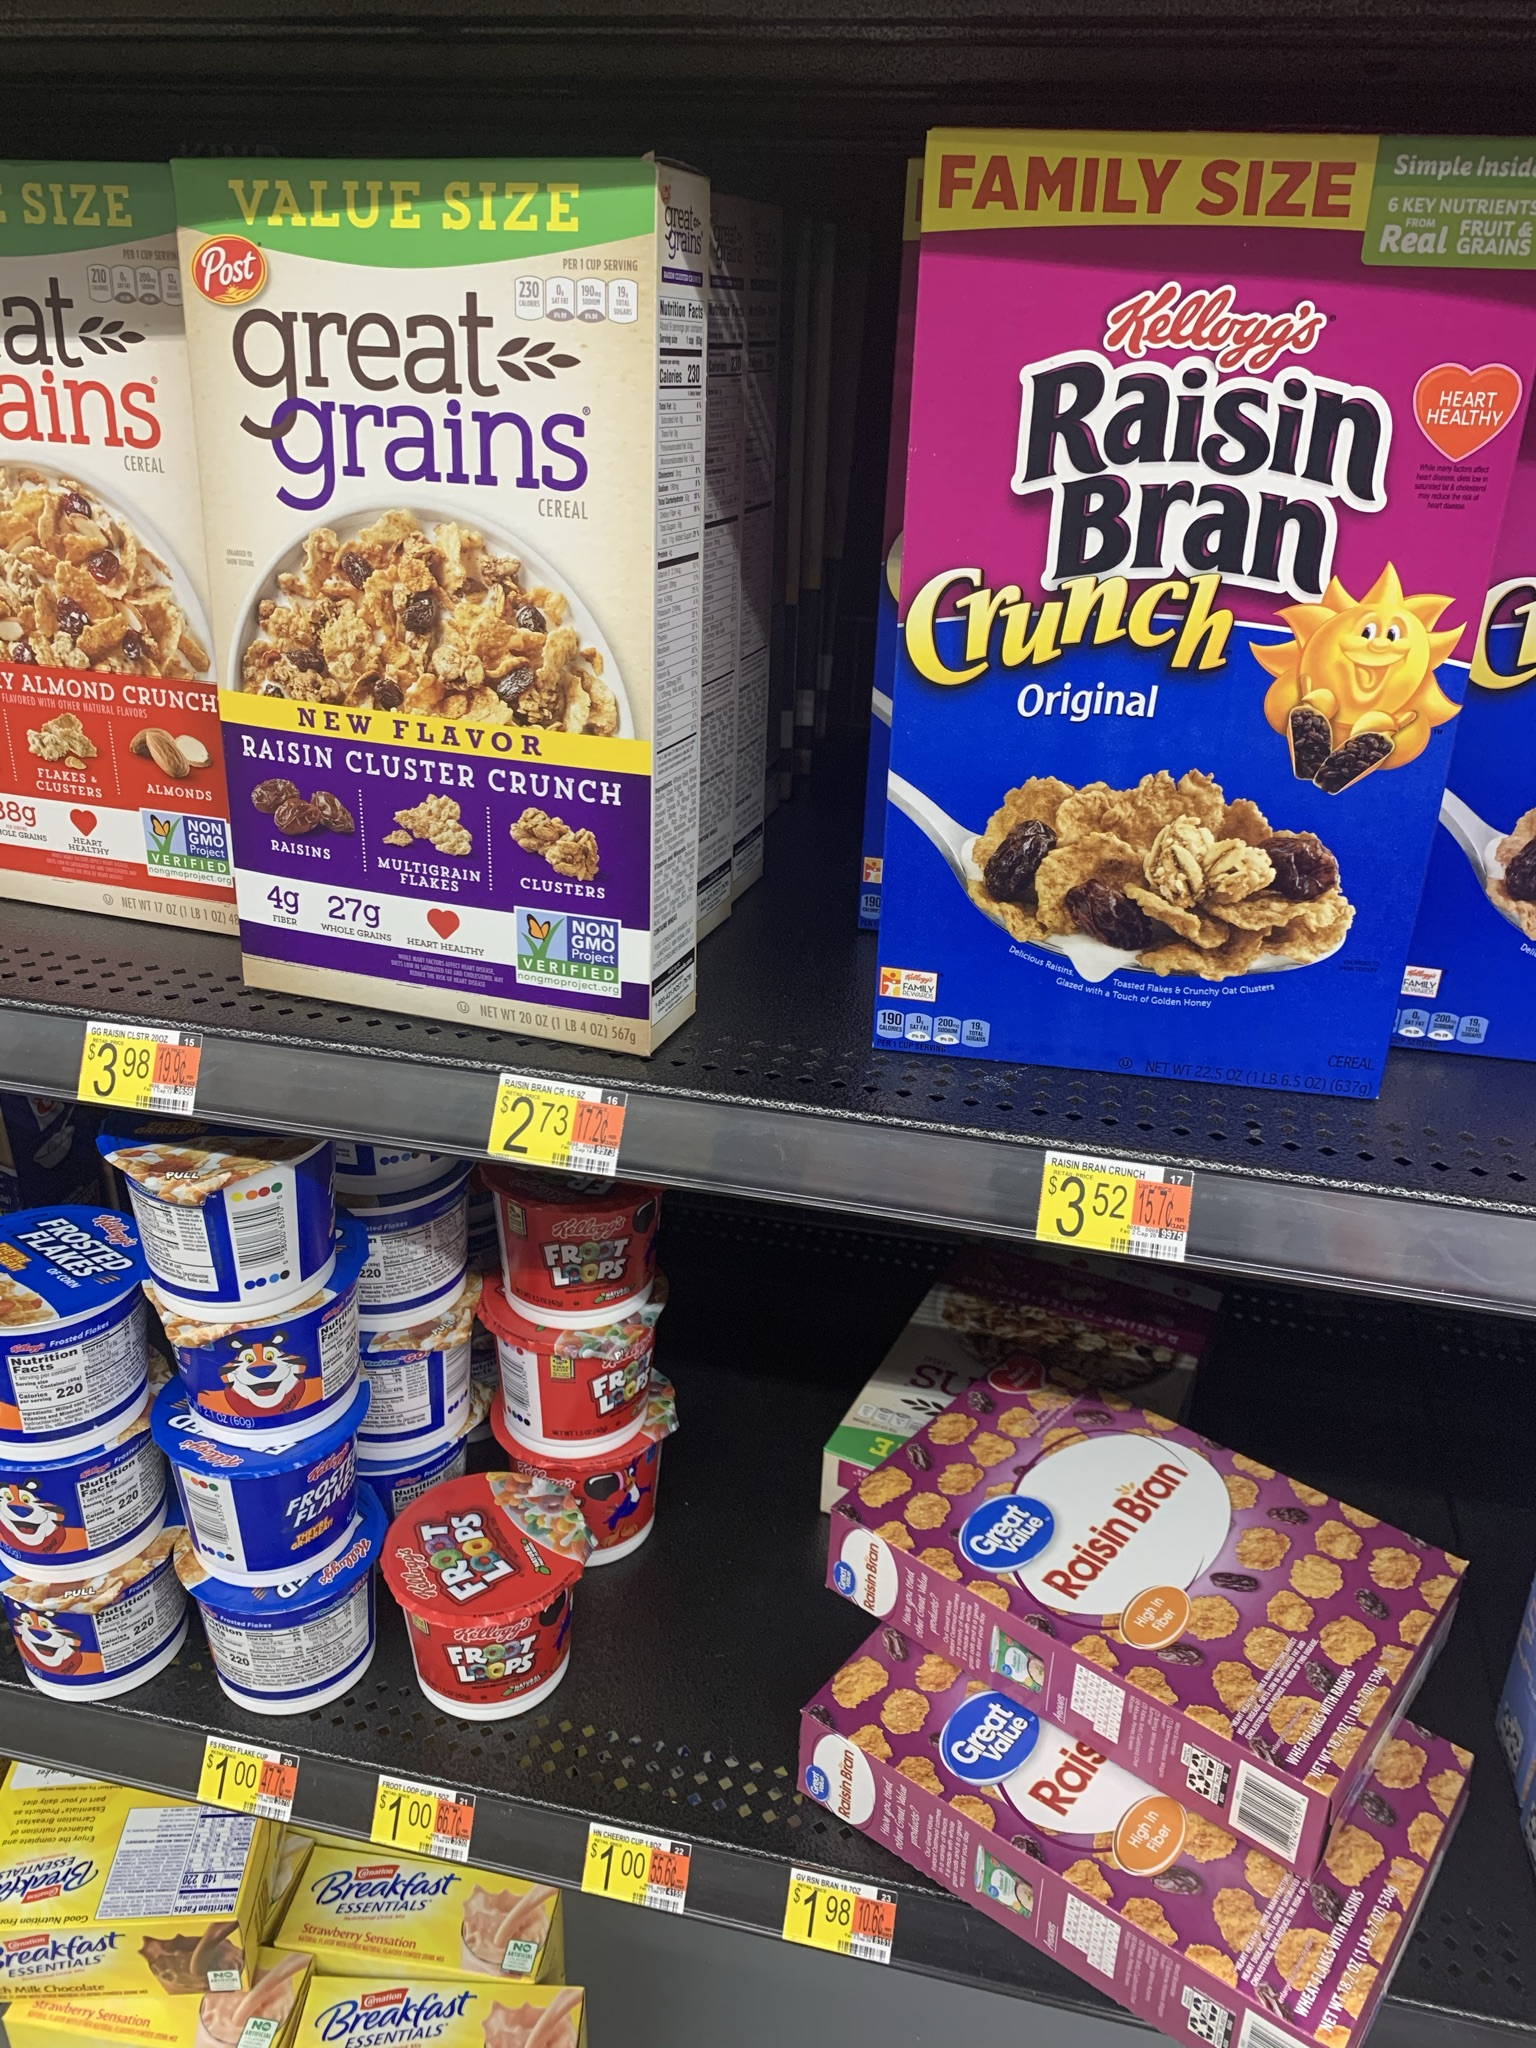Cereal great grains: (177, 164, 670, 1006)
Cereal raisin: (933, 156, 1388, 1101), (879, 1474, 1426, 1756)
